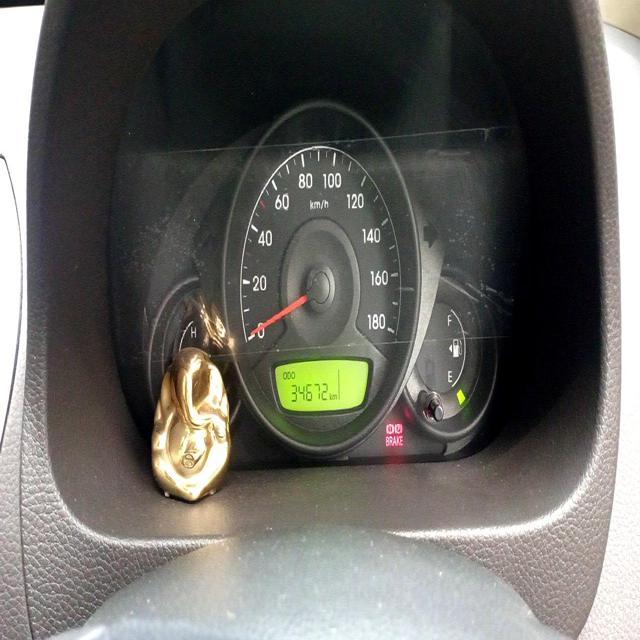odometer: (286, 378, 329, 407)
